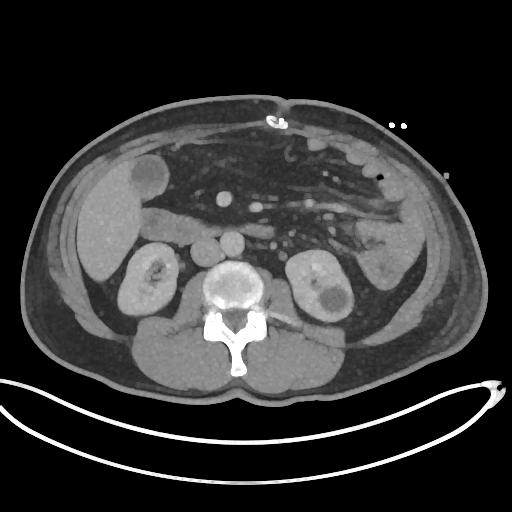Lesion: (317, 284, 352, 316)
